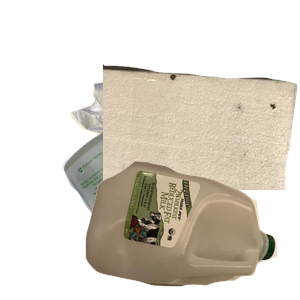glass: (60, 120, 300, 300)
paper: (68, 66, 215, 197)
plastic: (83, 159, 300, 300)
trash: (103, 62, 300, 242)
